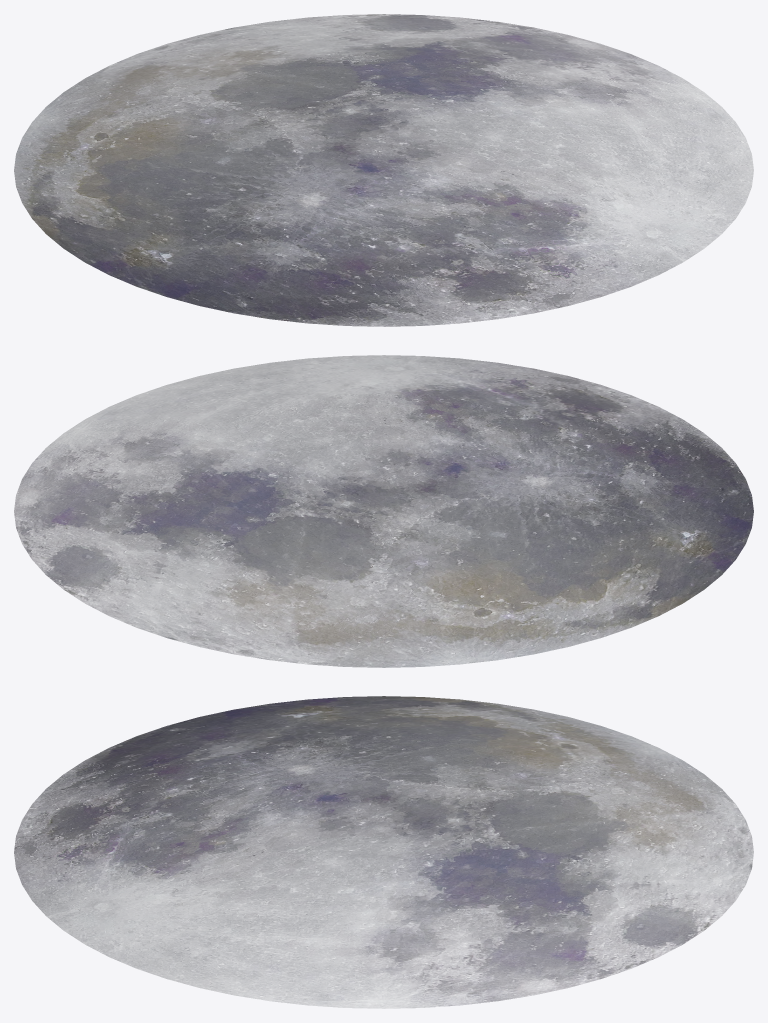
The model's file is moon.fbx.
3 renders of one model, top to bottom at view 1: azimuth 30°, elevation 25°; view 2: azimuth 150°, elevation 25°; view 3: azimuth 270°, elevation 25°, orthographic.
Visible parts, largest first — view 1: moon; view 2: moon; view 3: moon.
Part boxes in pixels (<box>): moon: <box>14,14,753,326</box>; moon: <box>14,355,753,667</box>; moon: <box>14,696,753,1008</box>.
Size of the model in its own units: 13.16 by 0.6477 by 13.16.
